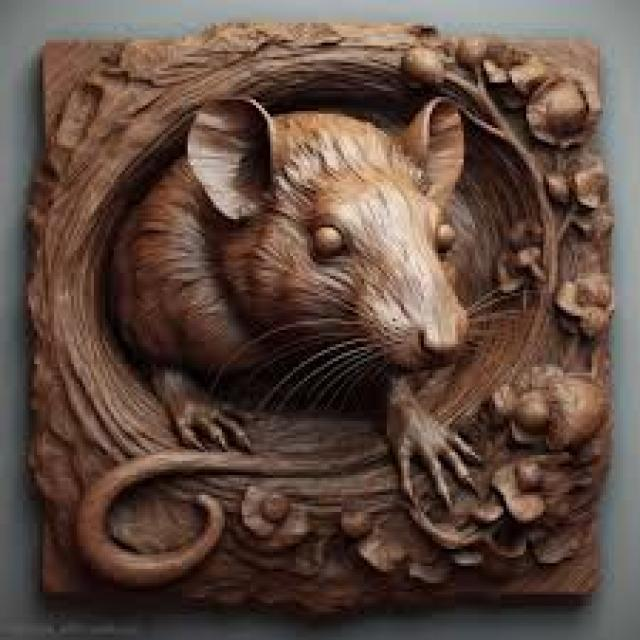rat: (111, 91, 540, 506)
